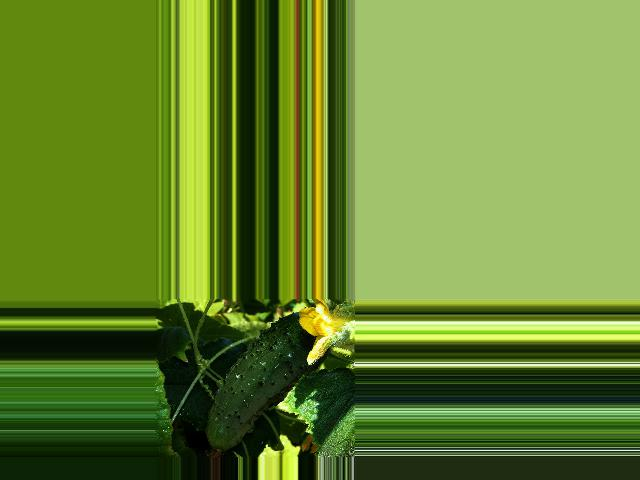cucumber: (204, 312, 329, 458)
